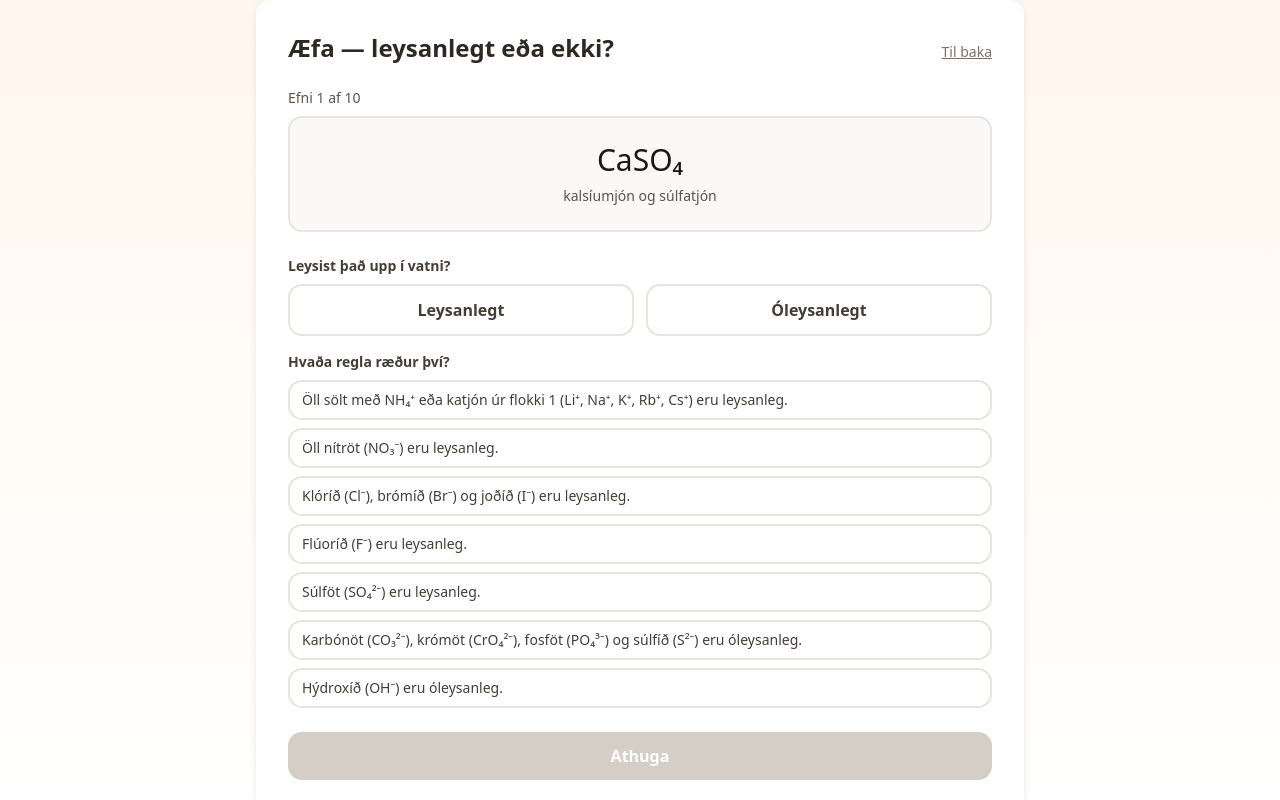
Test: Æfa › moves focus to the feedback after "Athuga", not to "Næsta"
Click the button "Óleysanlegt": (819, 310) [646,284,992,336]
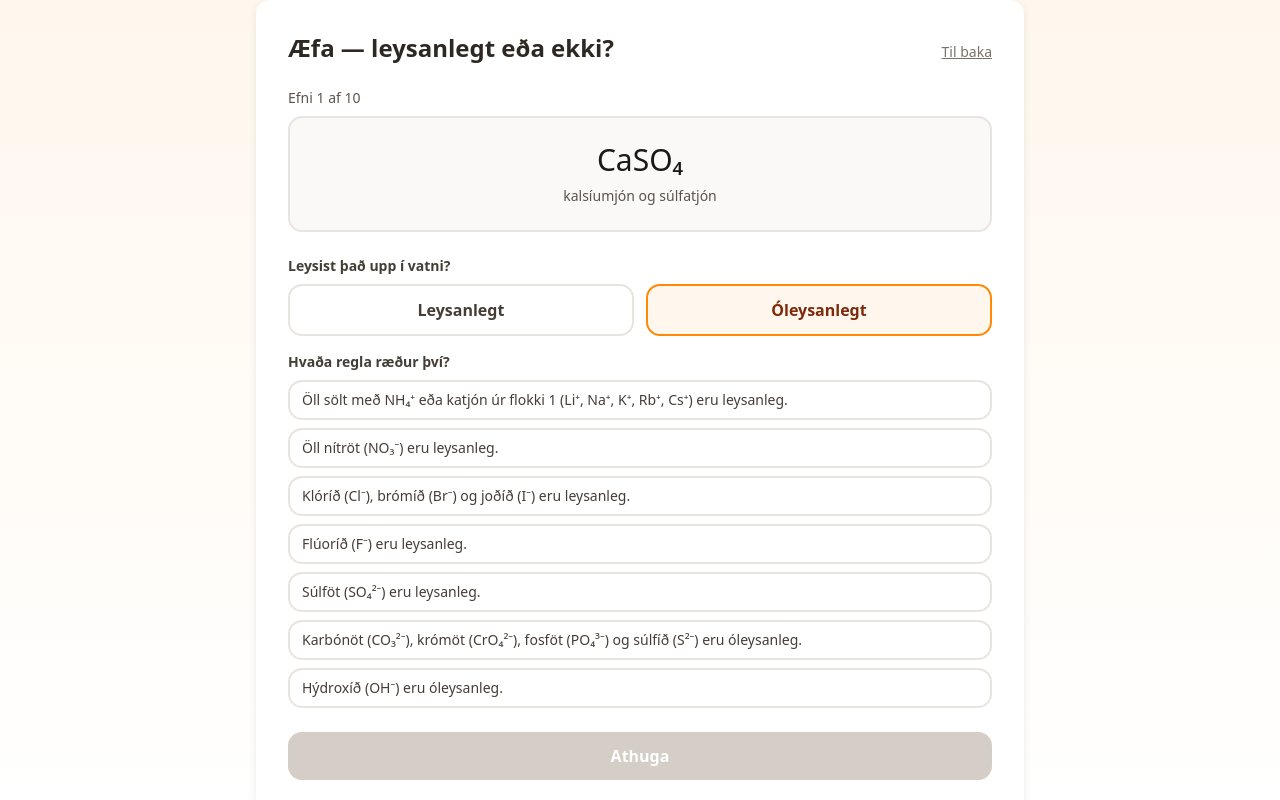
Click the button "Hýdroxíð (OH⁻) eru óleysanleg.": (402, 688) [288,668,992,708]
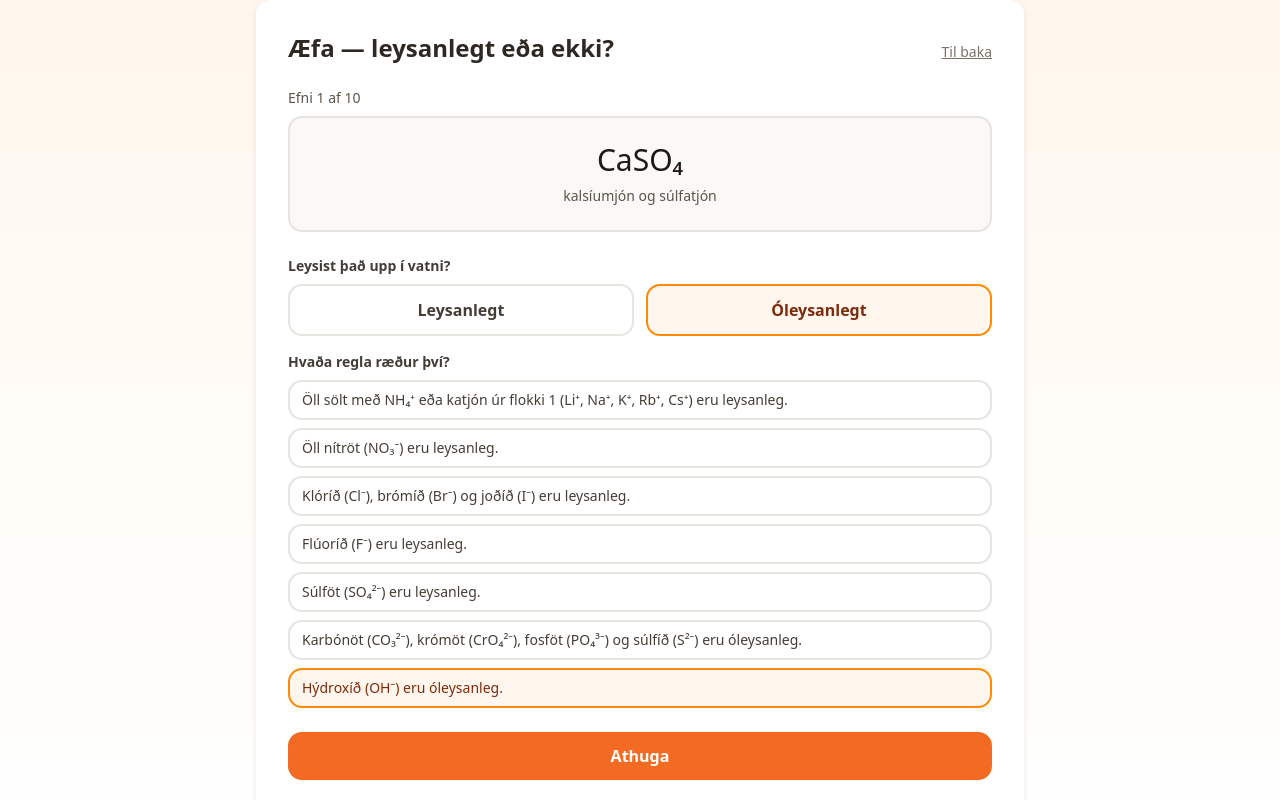
Click the button "Athuga": (640, 756) [288,732,992,780]
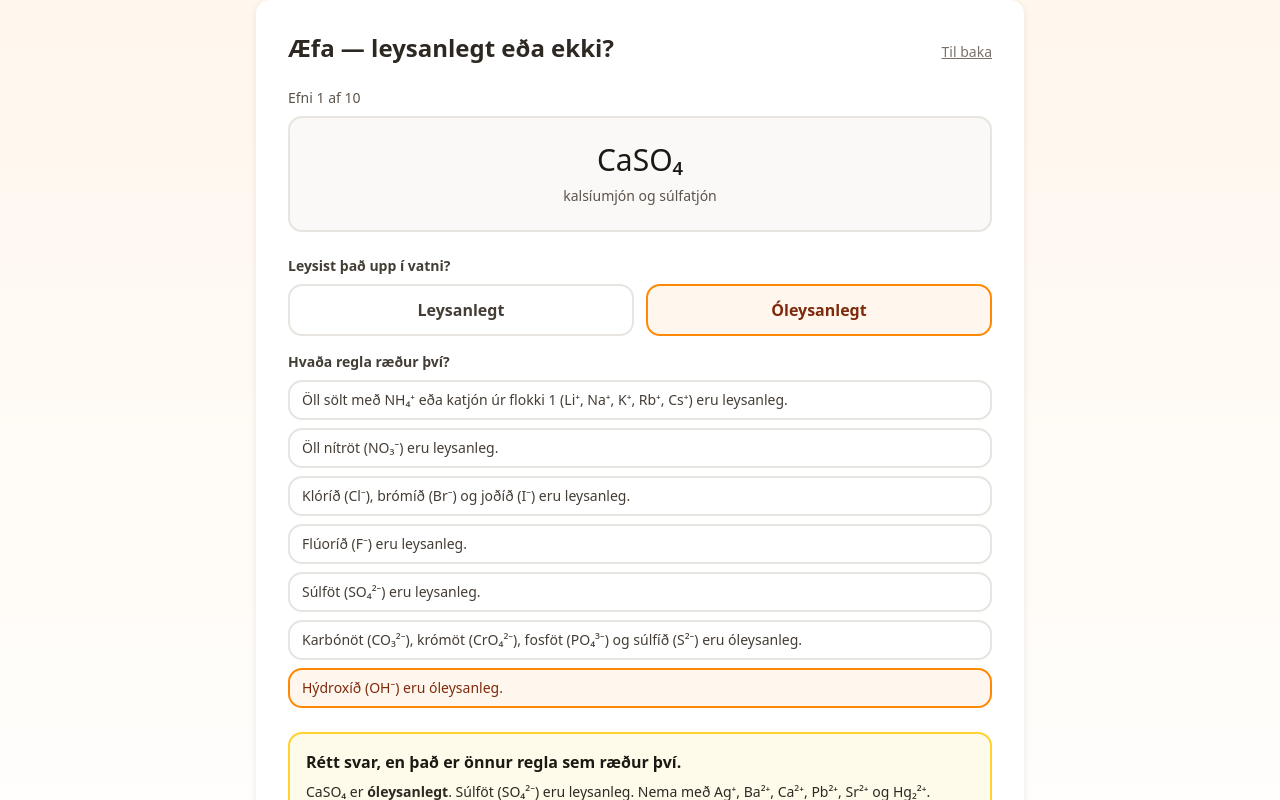
Expected: the button "Athuga" is gone
